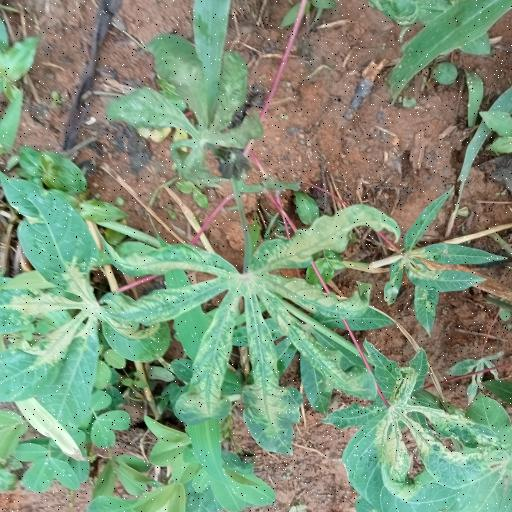Cassava_Mosaic: (111, 224, 367, 441)
